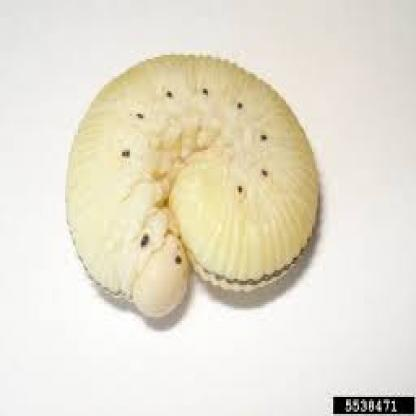sawfly: (65, 49, 324, 322)
